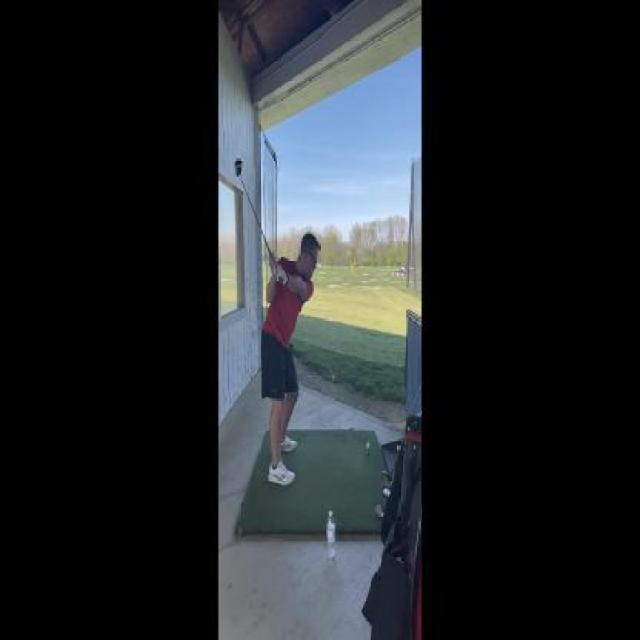club head: (232, 156, 243, 178)
